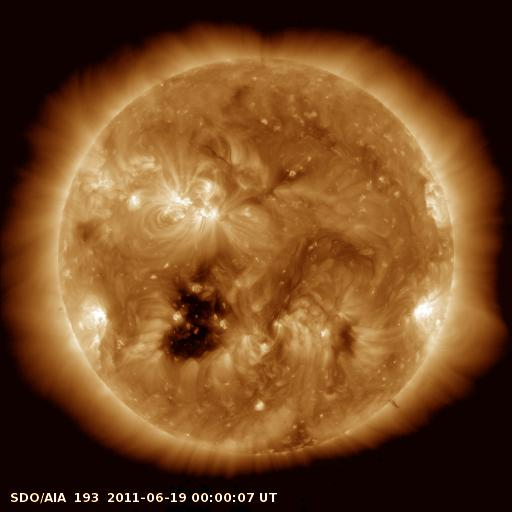coronal_hole: (158, 273, 237, 369)
